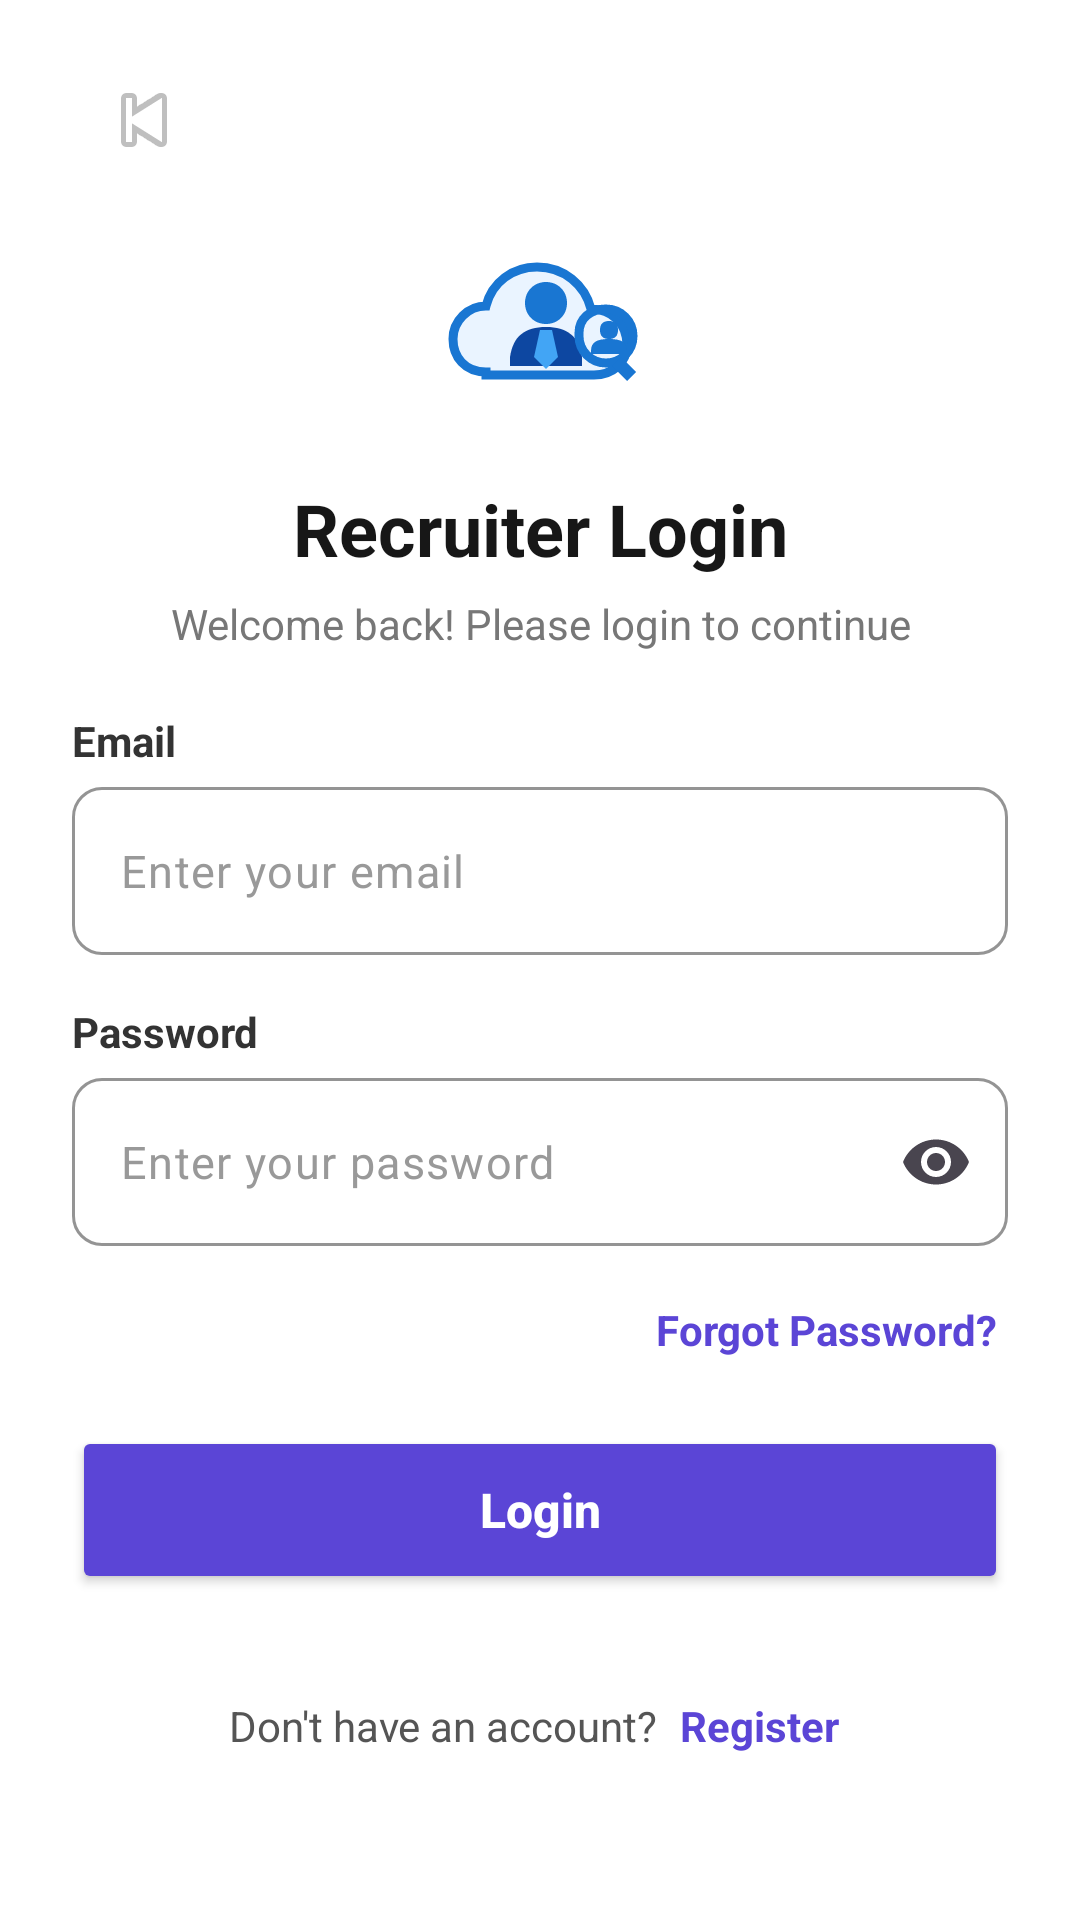

Screen size 1080px x 1920px. Icon name, then its center in pixels as (x,y):
Back: (144,120)
